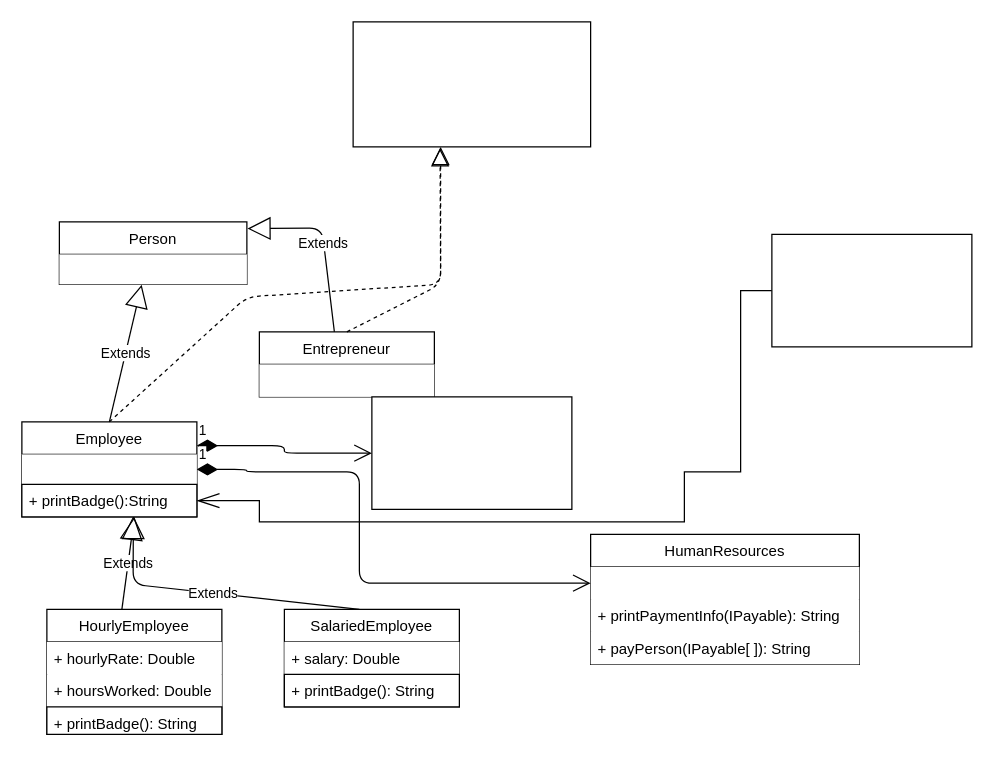
Image size: 994x760. Some labels were removed from this diagram. The shapes that lost their labels are listed below. From the top down, each one's centre as x and y in pixels, then its label:
At [471,84]: "<<IPayable>> + field1: Type + calculatePay(): Double".
At [152,269]: "+ name: String".
At [871,290]: "CheckCashingPlace + field: Type + method(): Type".
At [346,380]: "+ field: type".
At [108,469]: "+ hireDate: HireDate".
At [471,452]: "HireDate + Month: String + Day: String + Year: String".
At [724,582]: "+ issueBadge(Employee[ ]): String".
